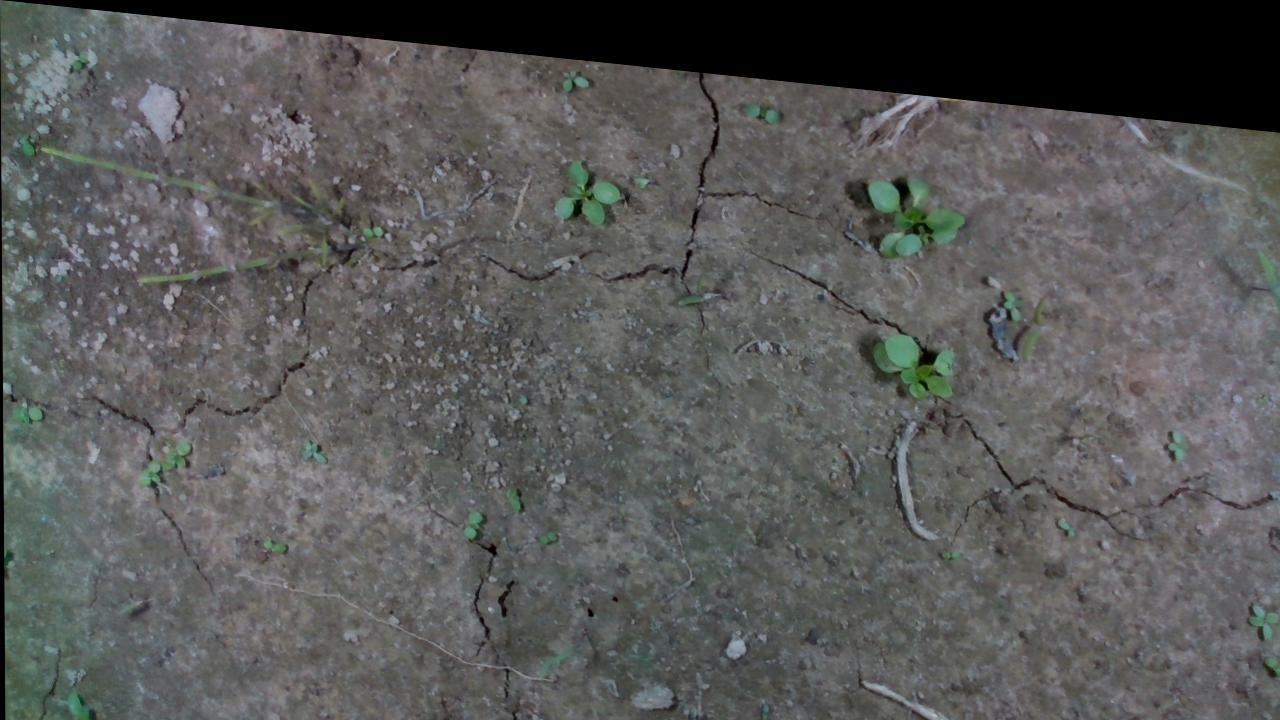weed: (1166, 687, 1216, 719), (453, 496, 489, 537), (1246, 570, 1278, 616), (1164, 397, 1195, 442), (557, 49, 591, 81), (297, 426, 327, 459), (1000, 262, 1023, 300)
